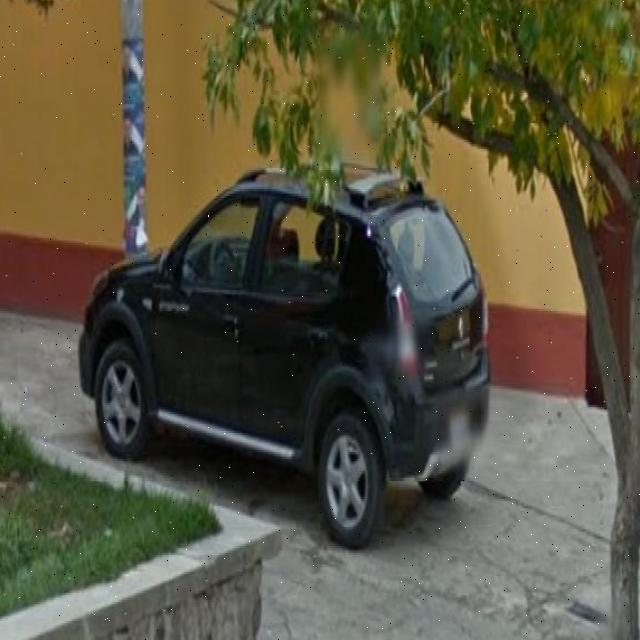car: (61, 152, 502, 576)
